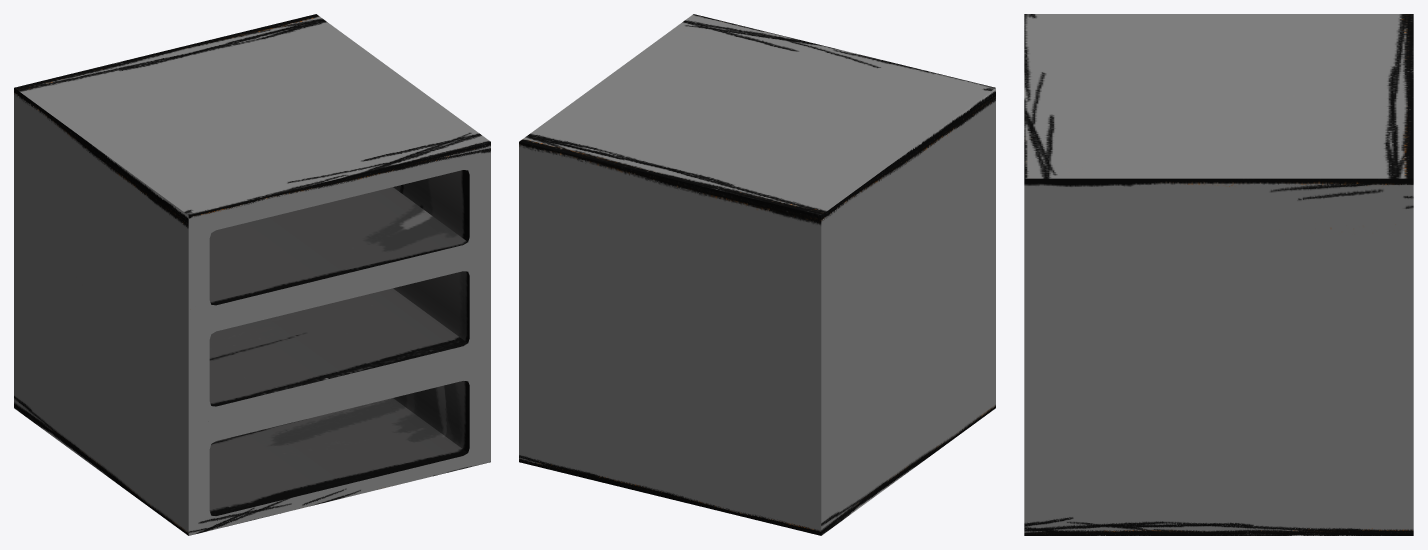
The model's file is SM_NightStand02.fbx.
The picture shows the model from 3 angles, left to right: view 1: azimuth 30°, elevation 25°; view 2: azimuth 150°, elevation 25°; view 3: azimuth 270°, elevation 25°; orthographic projection. The views are drawn at different scales.
Parts seen in each view (by area): view 1: NightStand; view 2: NightStand; view 3: NightStand.
Part boxes in pixels (x1,y1,x2,y2): NightStand: (14,14,490,535); NightStand: (519,14,995,535); NightStand: (1024,14,1413,535).
Bounding box in the file's own units: 75 × 76 × 75.
